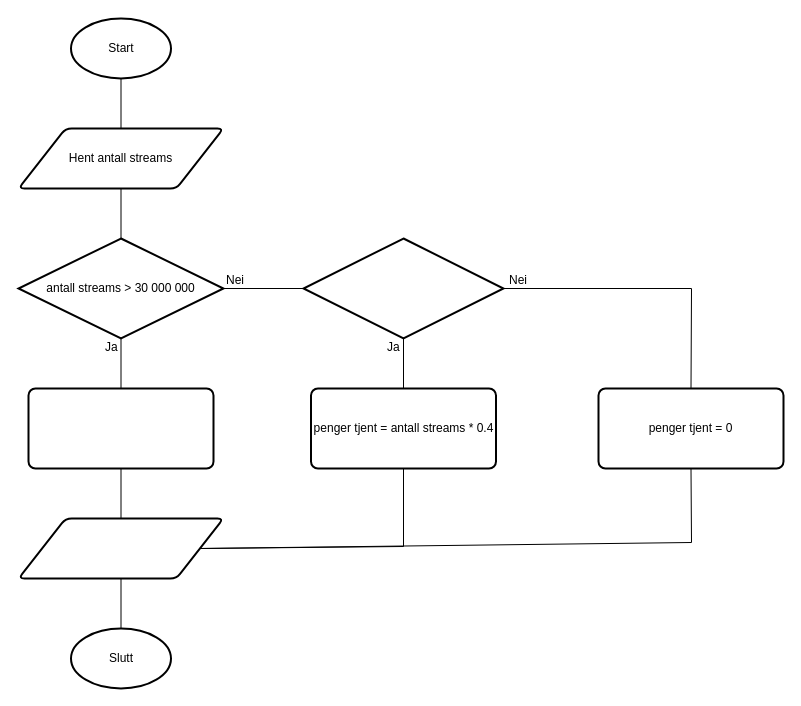
This 801x706 diagram has some shape labels left out. Here are the shapes that lost their labels. From the top down, the centre of each, then its label:
At (403,288): "antall streams > 1 400 000".
At (120,428): "penger tjent = antall streams * 0.7".
At (120,548): "Vis penger tjent".
